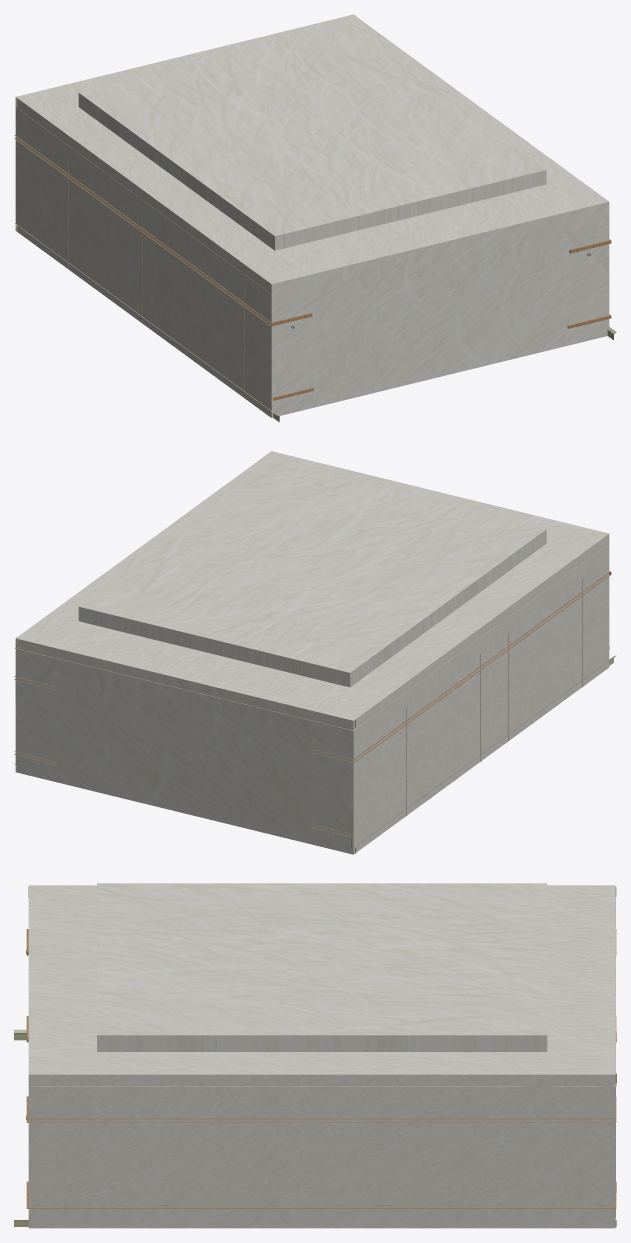
File: locker.fbx
3 views of the same model, one above another, from view 1: azimuth 30°, elevation 25°; view 2: azimuth 150°, elevation 25°; view 3: azimuth 270°, elevation 25° (orthographic). The views are drawn at different scales.
Visible parts, largest first — view 1: polygon22, polygon1, polygon21; view 2: polygon22, polygon1, polygon21; view 3: polygon22, polygon1, polygon21.
Part boxes in pixels (x1,y1,x2,y2): polygon22: (15,14,609,417); polygon1: (14,135,611,400); polygon21: (14,15,616,422); polygon22: (15,451,609,854); polygon1: (14,571,611,837); polygon21: (14,543,616,854); polygon22: (28,883,615,1228); polygon1: (26,929,616,1208); polygon21: (14,887,616,1226).
Bounding box in the file's own units: 11520 × 4933 × 15406.
Materials: 11 (10 with a texture image).
